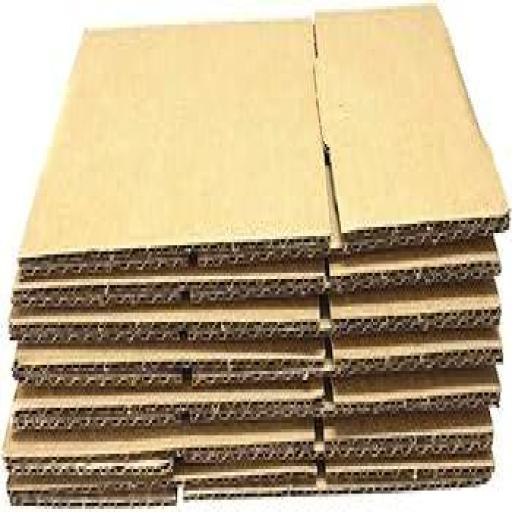cardboard: (3, 0, 512, 512)
